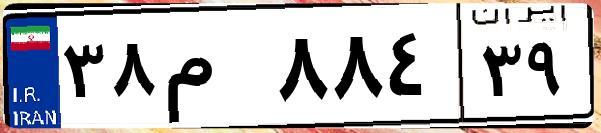3: (57, 26, 110, 100), (475, 38, 525, 113)
4: (385, 28, 445, 110)
8: (270, 28, 330, 110), (330, 28, 385, 110), (110, 28, 158, 98)
9: (525, 38, 570, 115)
م: (158, 20, 270, 120)
